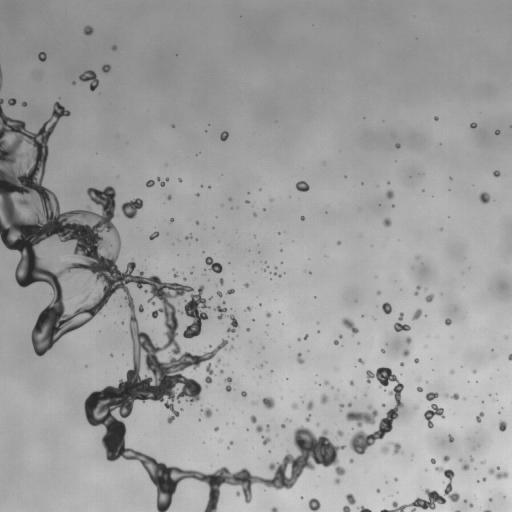droplet: (424, 403, 444, 428), (121, 198, 143, 218), (79, 70, 98, 90), (394, 312, 410, 331), (205, 256, 222, 273), (227, 315, 238, 332), (214, 306, 226, 319), (308, 498, 320, 511), (262, 397, 274, 409), (389, 441, 400, 454), (296, 181, 309, 191), (479, 192, 489, 203), (382, 302, 391, 314), (426, 392, 438, 400), (83, 26, 93, 35), (412, 309, 421, 319), (202, 408, 212, 417), (157, 178, 168, 186), (220, 131, 228, 141), (296, 353, 304, 363), (476, 412, 484, 422), (499, 420, 506, 431), (38, 52, 46, 61), (149, 231, 158, 239), (102, 64, 110, 72), (146, 179, 154, 187), (383, 218, 391, 226), (425, 294, 433, 302), (262, 436, 270, 444), (381, 445, 389, 453), (386, 190, 393, 199), (8, 98, 16, 105), (256, 425, 263, 433), (321, 394, 327, 403), (307, 401, 313, 410), (442, 455, 449, 462), (462, 463, 469, 470), (451, 393, 459, 399), (250, 415, 256, 423), (470, 122, 477, 128), (493, 170, 500, 176), (445, 318, 451, 325), (403, 349, 409, 356), (226, 289, 234, 294), (448, 434, 453, 442), (358, 358, 364, 364), (225, 377, 231, 383), (337, 430, 343, 436), (406, 337, 411, 343), (226, 385, 231, 391), (241, 391, 246, 397), (292, 403, 297, 409), (139, 305, 143, 312), (395, 143, 400, 148), (217, 291, 222, 296), (266, 312, 271, 317), (333, 340, 338, 345), (185, 235, 191, 239), (219, 278, 223, 284), (306, 415, 310, 421), (271, 507, 277, 511), (508, 353, 511, 360), (112, 45, 116, 50), (22, 102, 27, 106), (173, 272, 177, 277), (304, 334, 308, 339), (414, 358, 418, 363), (349, 380, 353, 385), (417, 387, 422, 391), (265, 425, 269, 430), (214, 426, 218, 431), (431, 458, 435, 463), (434, 116, 438, 120), (495, 130, 499, 134), (300, 216, 304, 220), (244, 283, 248, 287), (246, 306, 250, 310), (400, 362, 404, 366), (324, 380, 328, 384), (281, 424, 285, 428), (349, 459, 353, 463), (482, 477, 486, 481), (470, 456, 473, 461), (178, 178, 181, 182), (168, 195, 171, 199), (195, 221, 199, 224), (381, 349, 384, 353), (340, 404, 343, 408), (286, 418, 290, 421), (230, 441, 233, 445), (469, 503, 472, 507), (246, 200, 249, 203), (253, 213, 256, 216), (170, 218, 173, 221), (337, 241, 340, 244), (274, 272, 277, 275), (377, 291, 380, 294), (217, 359, 220, 362), (473, 370, 476, 373), (348, 403, 351, 406), (376, 489, 379, 492), (196, 193, 199, 195), (228, 198, 231, 200), (183, 278, 186, 280), (144, 290, 147, 292), (247, 328, 249, 331), (339, 335, 342, 337), (297, 338, 300, 340), (230, 346, 232, 349), (220, 370, 223, 372), (451, 370, 453, 373), (382, 403, 384, 406), (316, 423, 319, 425), (394, 478, 397, 480), (172, 125, 174, 127), (270, 199, 272, 201), (209, 297, 211, 299), (416, 406, 418, 408), (219, 439, 221, 441), (482, 461, 484, 463), (489, 498, 491, 500)
ligament: (0, 98, 345, 511), (346, 367, 403, 454), (380, 466, 459, 511), (342, 318, 358, 334), (488, 467, 508, 479), (342, 493, 355, 511), (358, 506, 371, 511), (414, 285, 420, 295), (0, 69, 2, 90), (484, 508, 491, 511), (455, 510, 459, 511)
